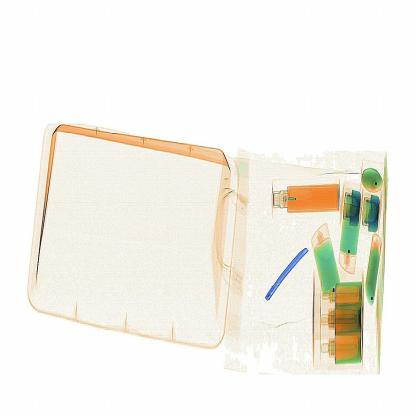pliers: (253, 243, 310, 313)
